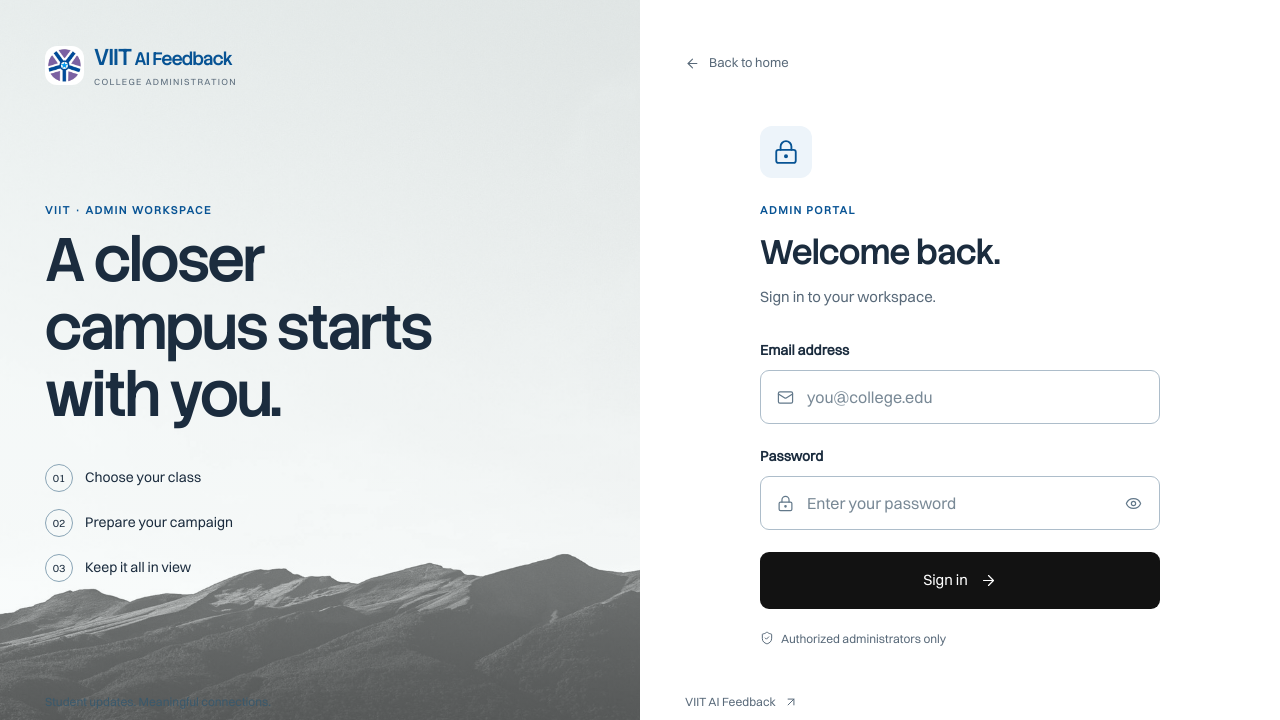
Supabase admin login › uses Supabase email/password and shows failed credentials
The width and height of the screenshot is (1280, 720).
Type "admin@example.com" into the field labelled "Email address" at (960, 397), box [761,371,1159,423]
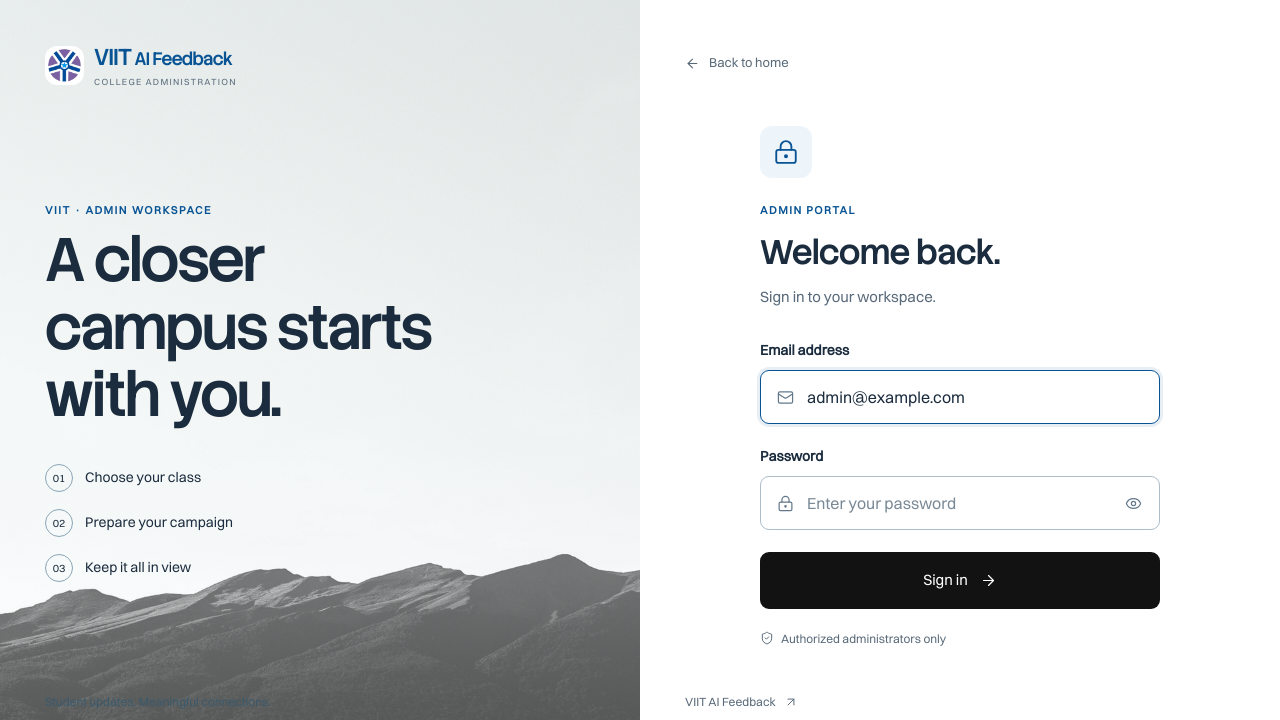
Type "bad-password" into the password field labelled "Password" at (960, 503), box [761,477,1159,529]
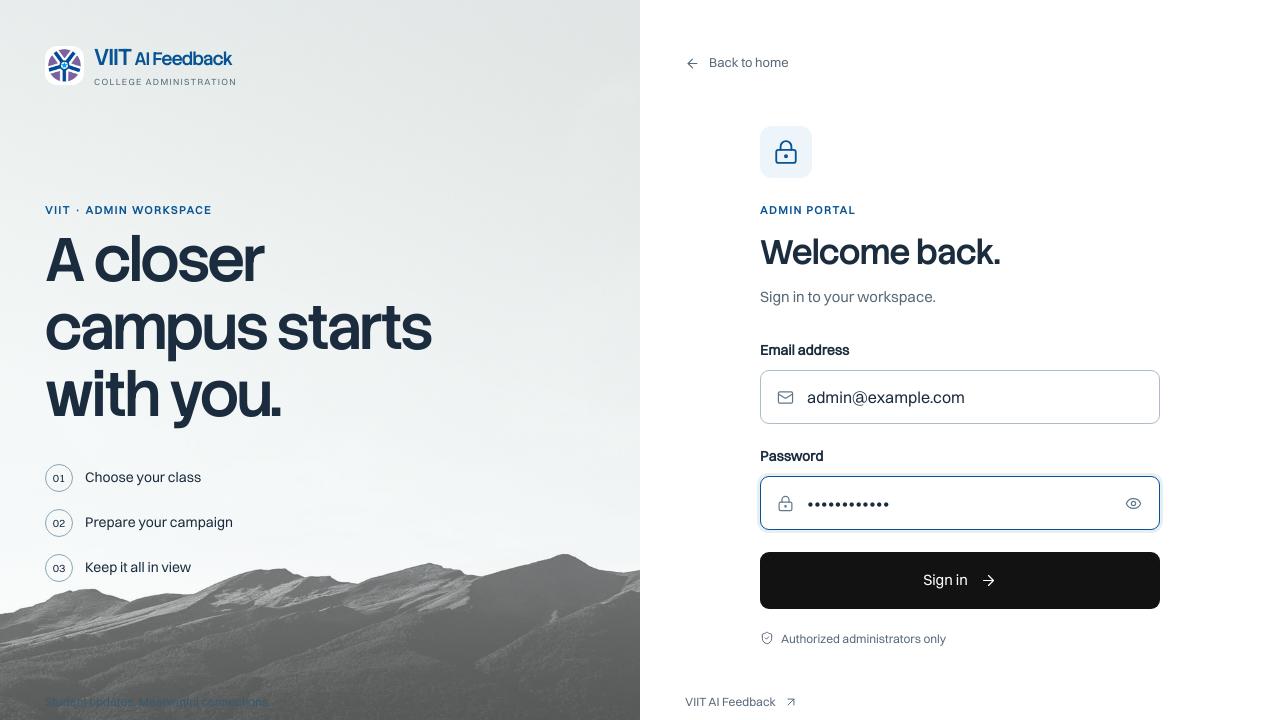
Click the button "Sign in" at (960, 580), box [760,552,1160,608]
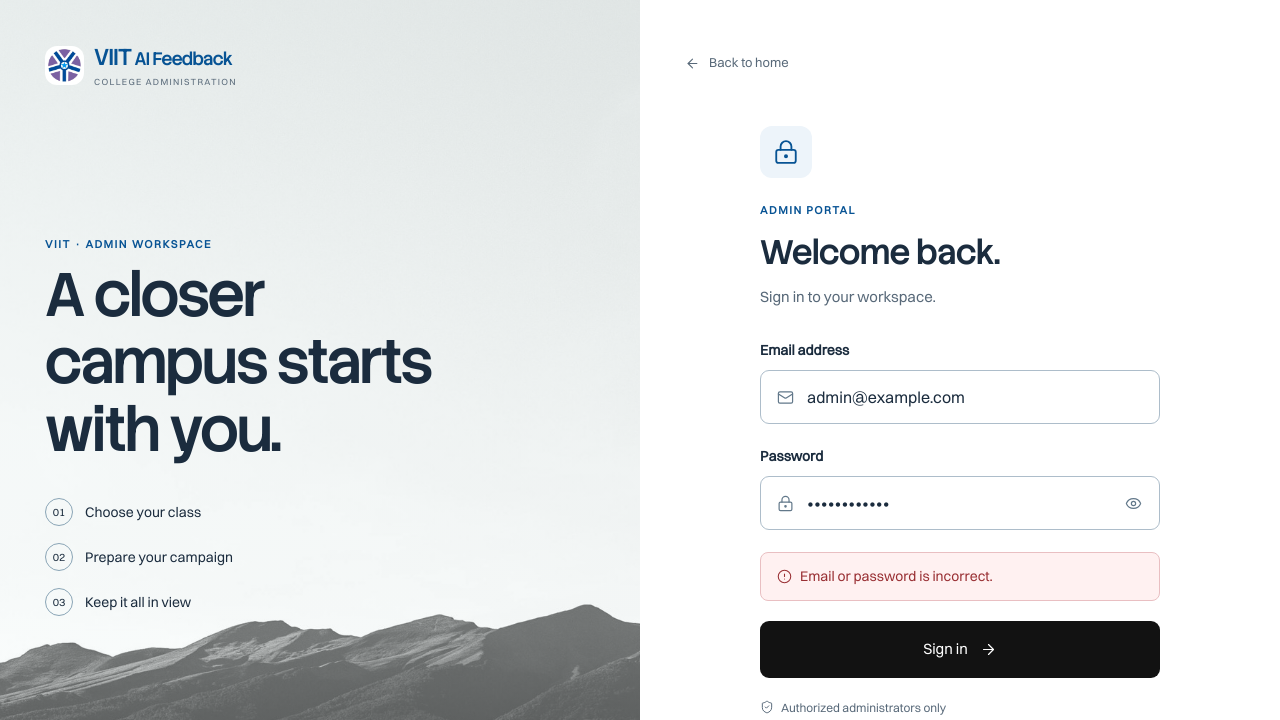
Result: the text "Email or password is incorrect." is shown at [760,552,1160,601]
